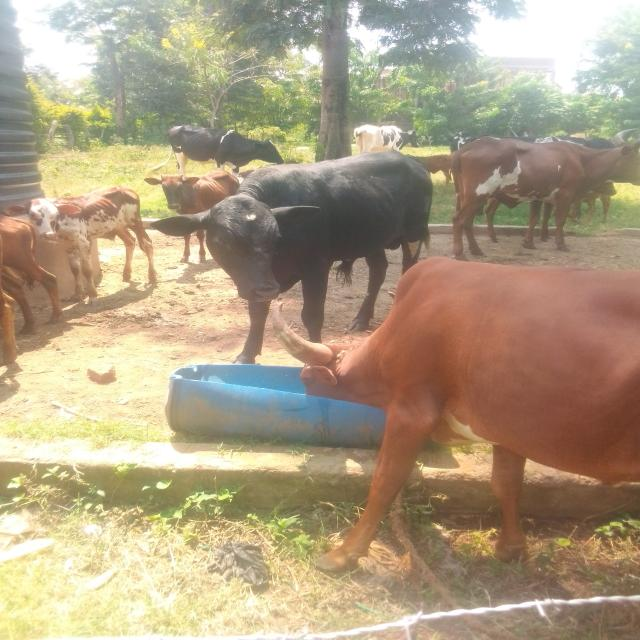Front: (152, 151, 432, 363)
